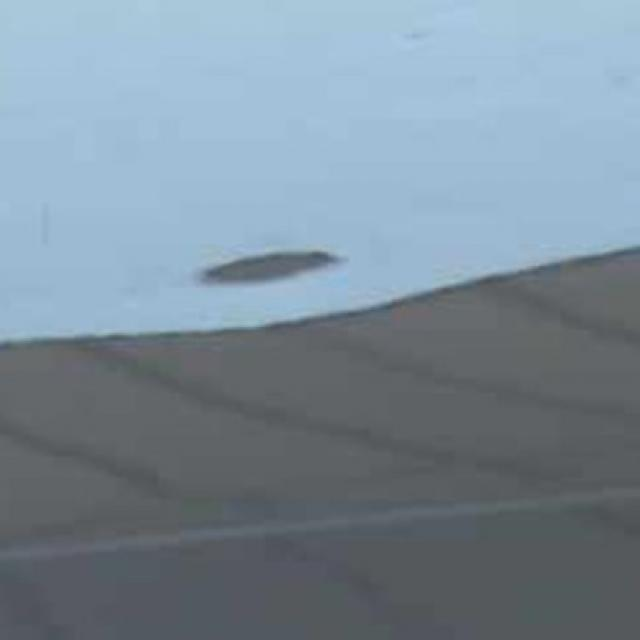dents: (180, 202, 381, 320)
